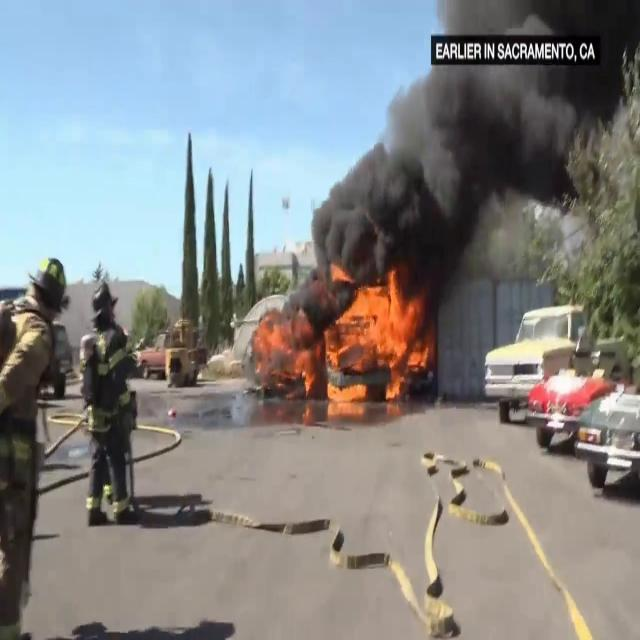Fire: (254, 266, 430, 414)
Smoke: (323, 0, 638, 292)
